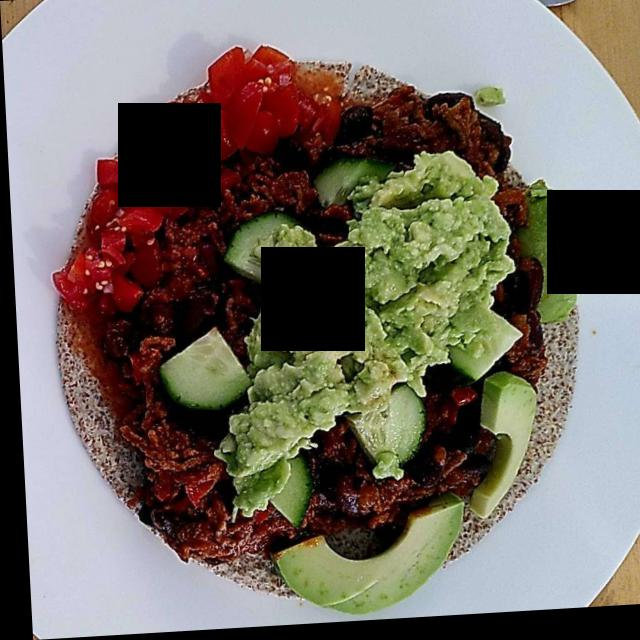avocado: (287, 364, 540, 601)
chili-con-carne-prepared: (112, 102, 534, 545)
cucumber: (166, 217, 509, 529)
guacamole: (229, 161, 529, 479)
tomato-raw: (45, 66, 336, 352)
